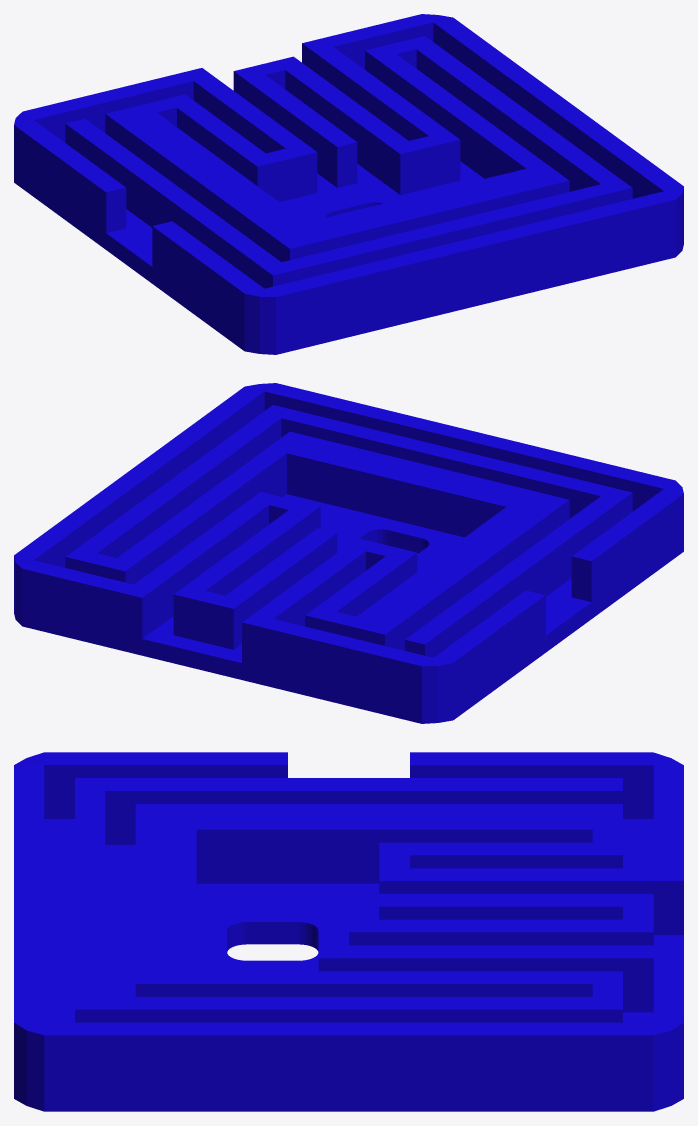
Rendered from maZEbaLL leVEL.fbx.
3 renders of one model, top to bottom at view 1: azimuth 30°, elevation 25°; view 2: azimuth 150°, elevation 25°; view 3: azimuth 270°, elevation 25°, orthographic. The views are drawn at different scales.
Visible parts, largest first — view 1: Cube; view 2: Cube; view 3: Cube.
Part boxes in pixels (<box>): Cube: <box>14,14,683,354</box>; Cube: <box>14,383,683,723</box>; Cube: <box>14,752,683,1111</box>.
Size of the model in its own units: 1556 by 196 by 1556.
